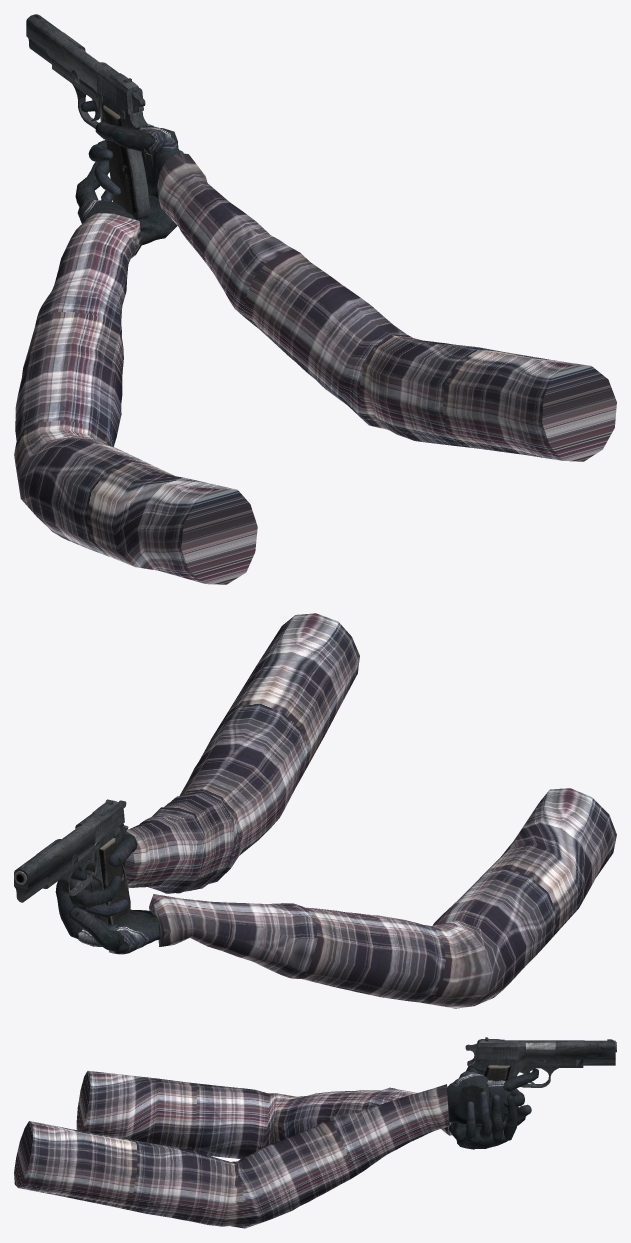
Rendered from hipower_ads.fbx.
3 views of the same model, one above another, from view 1: azimuth 30°, elevation 25°; view 2: azimuth 150°, elevation 25°; view 3: azimuth 270°, elevation 25° (orthographic). The views are drawn at different scales.
Visible parts, largest first — view 1: rarm, larm, hipower_slide, lhand, hipower_grip, rhand, hipower_plasticgrip, rthumb; view 2: larm, rarm, hipower_slide, lhand, hipower_plasticgrip, lthumb, hipower_body, rmfinger, hipower_grip, lpfinger, rthumb, rrfinger; view 3: rarm, larm, hipower_slide, rhand, hipower_body, lhand, hipower_grip, lmfinger, lpfinger, lrfinger, rpfinger, hipower_plasticgrip (+1 smaller).
Boxes of the visible parts, x1,y1,x2,y2 form: rarm: (157,153,616,461); larm: (14,213,257,584); hipower_slide: (26,14,143,114); lhand: (77,193,177,245); hipower_grip: (101,95,150,220); rhand: (139,123,180,198); hipower_plasticgrip: (102,104,135,214); rthumb: (95,121,146,152); larm: (149,788,616,1008); rarm: (124,613,359,893); hipower_slide: (14,800,124,889); lhand: (77,909,161,954); hipower_plasticgrip: (90,838,130,924); lthumb: (69,907,124,953); hipower_body: (14,844,96,902); rmfinger: (69,875,121,908); hipower_grip: (84,823,130,923); lpfinger: (55,879,82,938); rthumb: (108,834,137,867); rrfinger: (69,895,128,917); rarm: (14,1084,449,1228); larm: (76,1070,452,1159); hipower_slide: (475,1040,615,1059); rhand: (447,1071,510,1124); hipower_body: (475,1055,615,1076); lhand: (449,1122,507,1149); hipower_grip: (464,1056,514,1128); lmfinger: (490,1094,503,1142); lpfinger: (503,1095,518,1140); lrfinger: (479,1091,491,1138); rpfinger: (503,1068,538,1091); hipower_plasticgrip: (475,1065,511,1128).
Bounding box in the file's own units: 19.01 × 12.27 × 34.86.
Materials: 3 (3 with a texture image).
